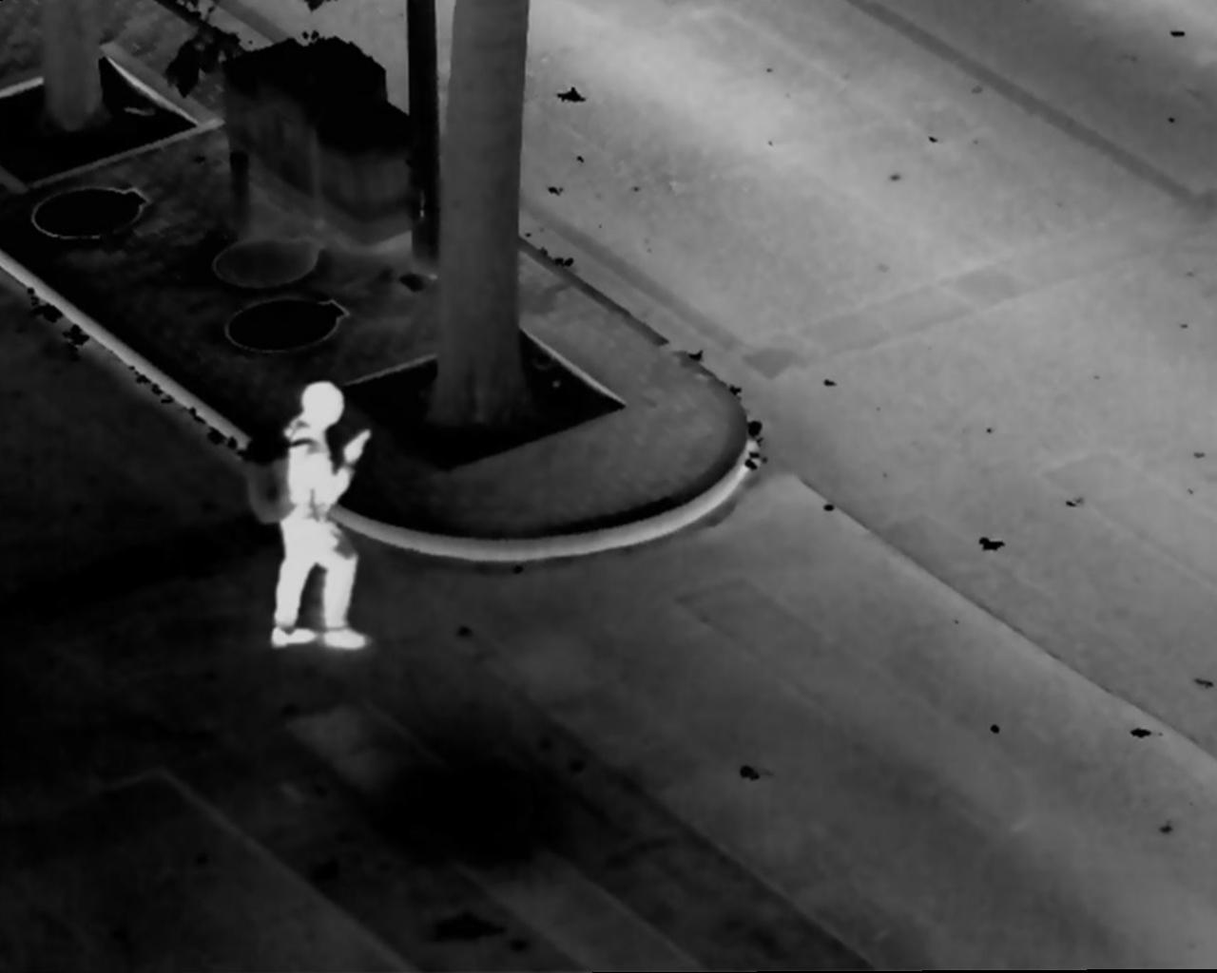person: (266, 375, 377, 657)
